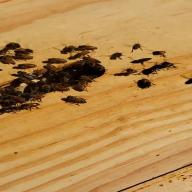Bee: (59, 94, 87, 108), (70, 41, 100, 54), (43, 55, 70, 67), (12, 62, 42, 72), (126, 40, 149, 50), (119, 66, 140, 76), (108, 51, 126, 62), (148, 49, 170, 56)
